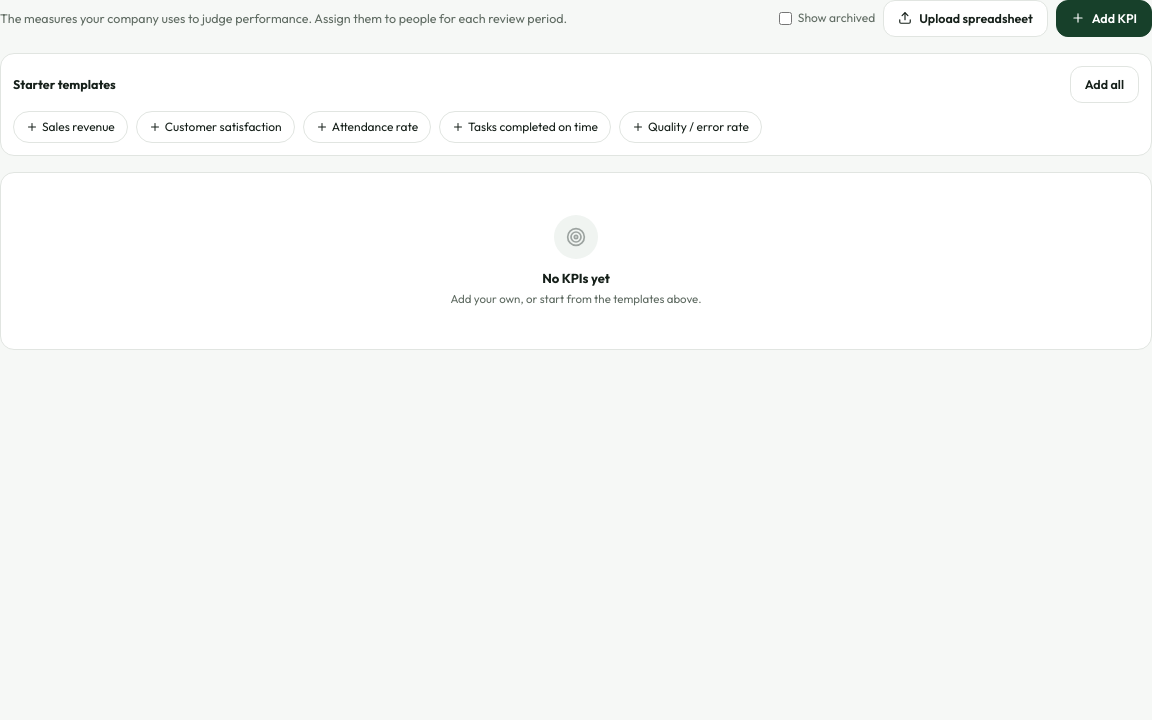
KPI library › refuses a weight over 100
The image size is (1152, 720).
Click the button "Add KPI" at {"x": 1104, "y": 18}, box [1056,0,1151,37]
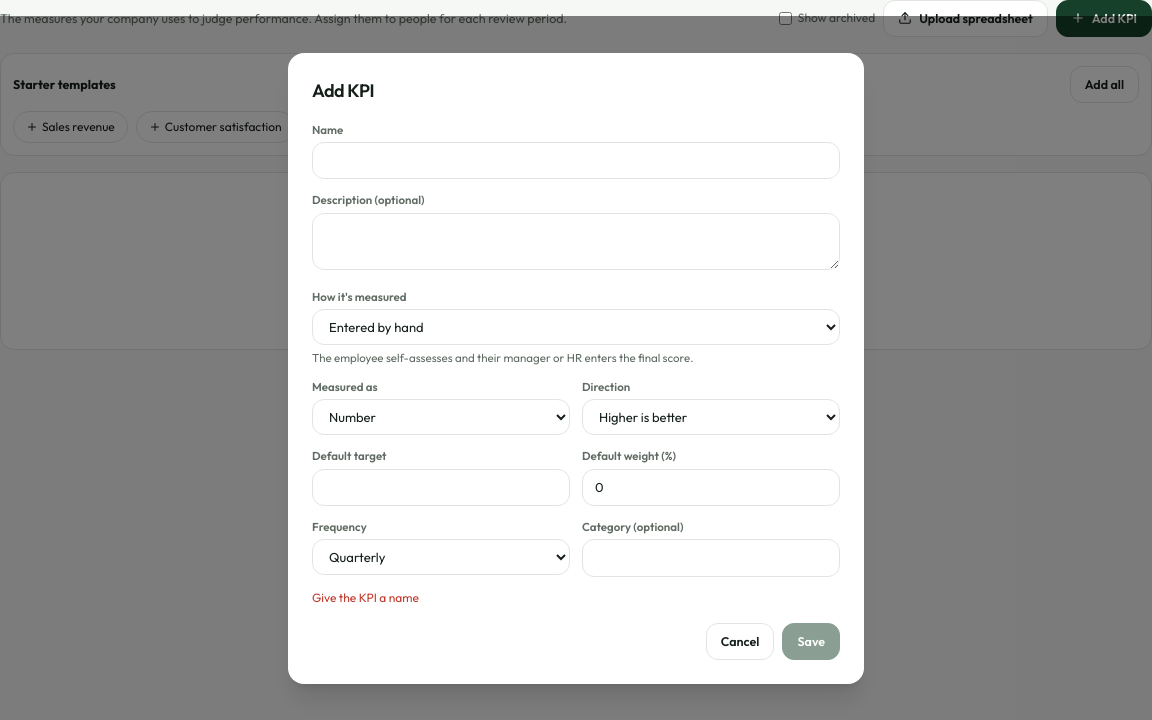
Type "X" into the field labelled "Name" at {"x": 576, "y": 161}, box [312,142,840,179]
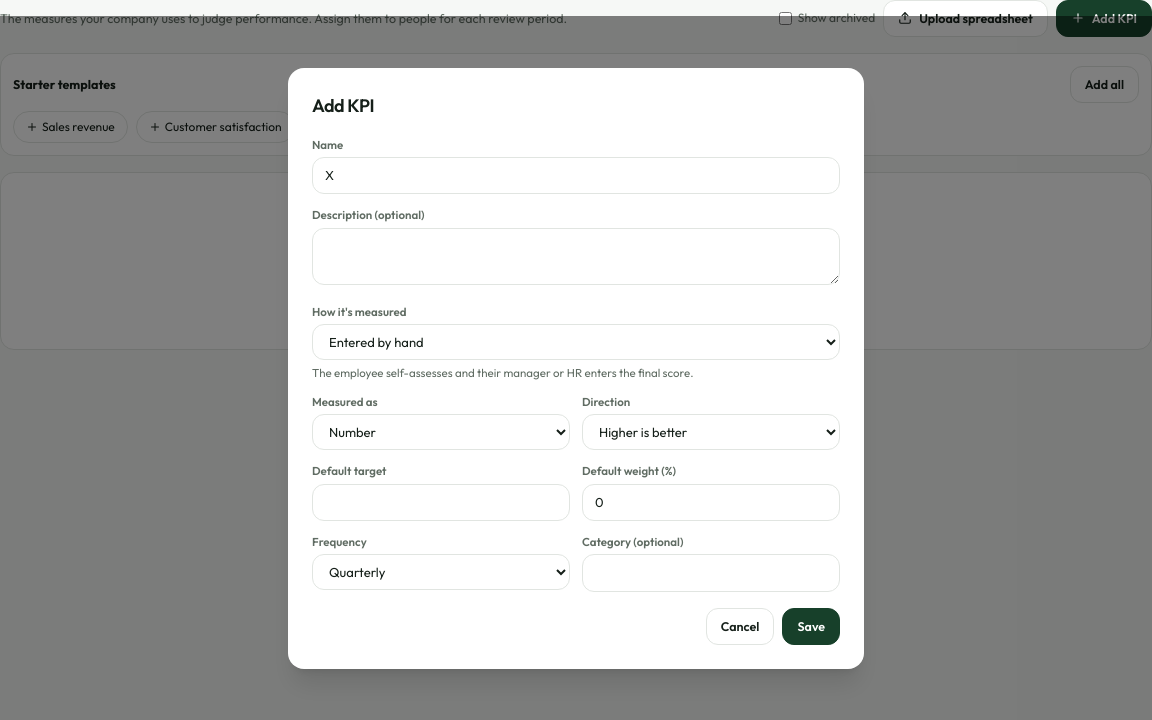
Replace the text in the field labelled "Default weight (%)" with "120" at {"x": 711, "y": 502}, box [582,484,840,521]
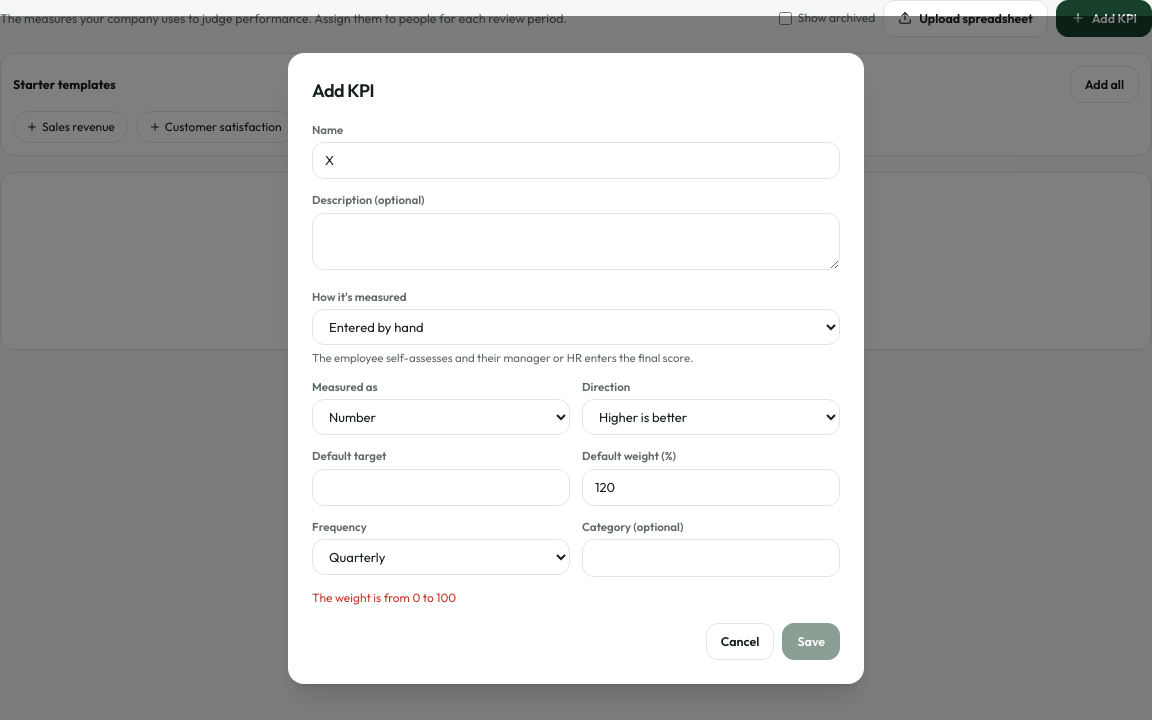
Now the text "The weight is from 0 to 100" is shown, box [312,590,456,605]
Now the button "Save" is disabled, box [782,623,840,660]
